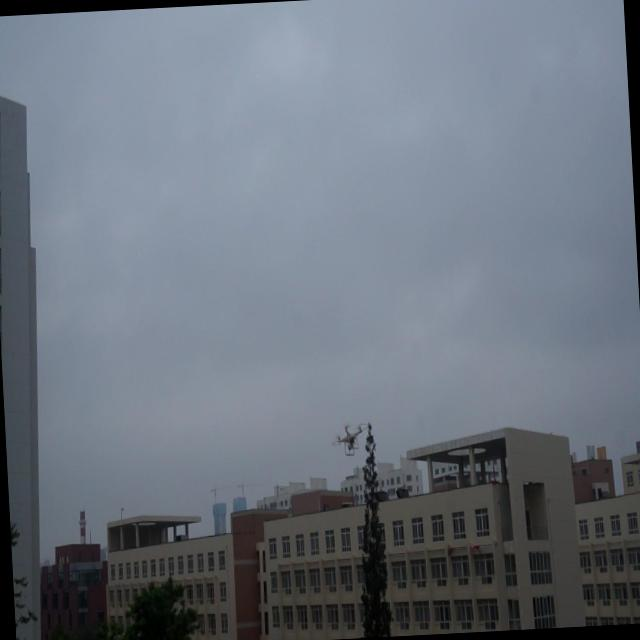drone: (332, 420, 366, 460)
